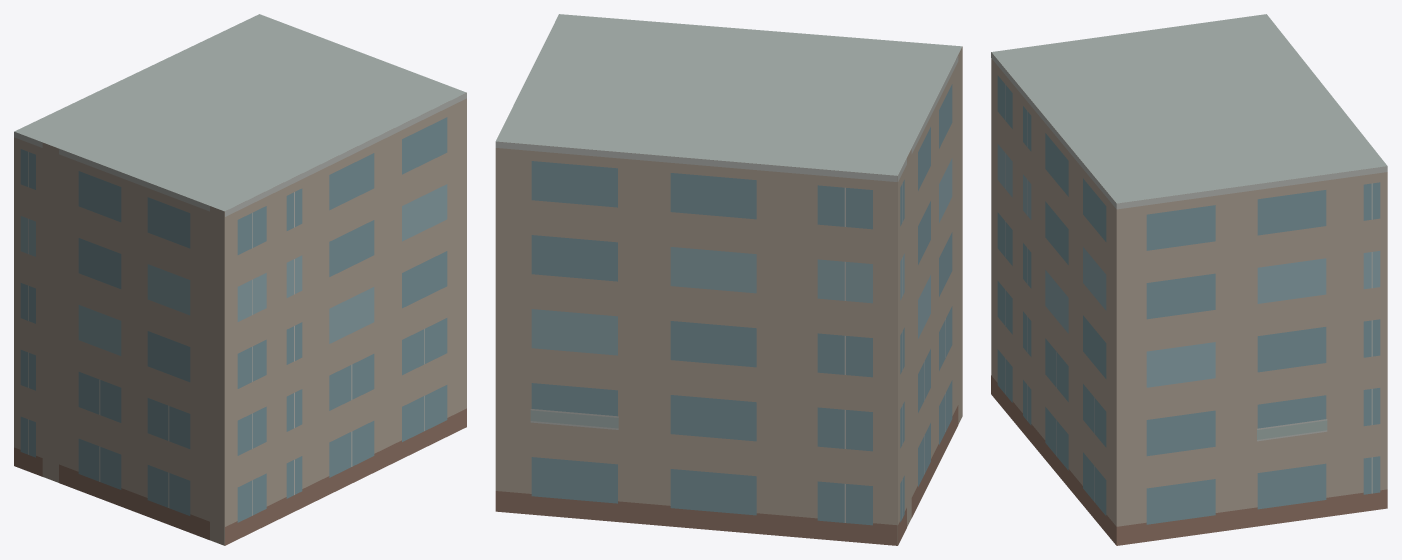
The model's file is survey-upis-32763372.glb.
3 renders of one model, left to right at view 1: azimuth 30°, elevation 25°; view 2: azimuth 150°, elevation 25°; view 3: azimuth 270°, elevation 25°, orthographic. The views are drawn at different scales.
Visible parts, largest first — view 1: survey-upis-32763372.tmp; view 2: survey-upis-32763372.tmp; view 3: survey-upis-32763372.tmp.
Boxes of the visible parts, <box> form: survey-upis-32763372.tmp: <box>14,14,466,545</box>; survey-upis-32763372.tmp: <box>495,14,962,545</box>; survey-upis-32763372.tmp: <box>991,14,1387,545</box>.
Bounding box in the file's own units: 16.87 × 14.2 × 14.91.
